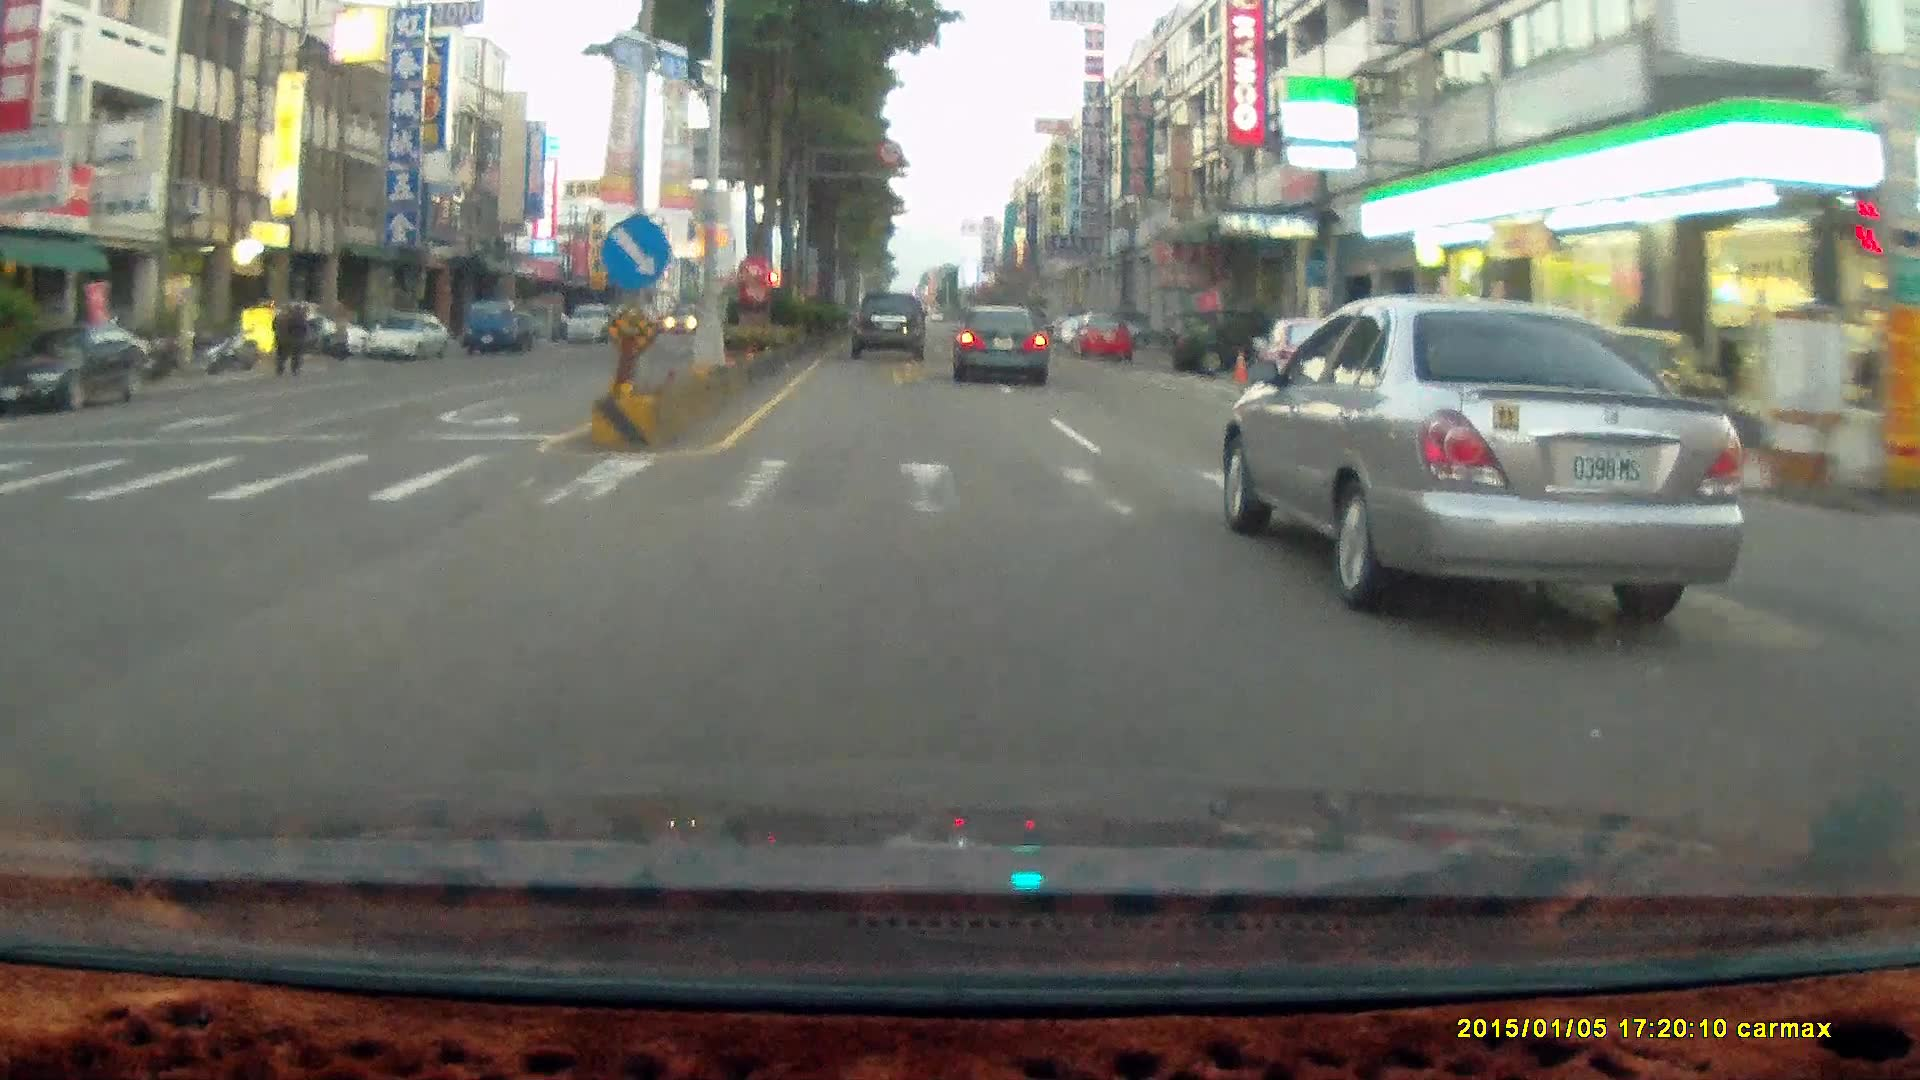pedestrian: (269, 300, 299, 377), (279, 302, 309, 379), (281, 295, 308, 368)
vehicle: (1227, 286, 1745, 624), (1564, 323, 1747, 486), (1546, 322, 1724, 464), (1, 323, 150, 414), (14, 319, 147, 408), (1264, 315, 1372, 405), (955, 302, 1052, 386), (954, 301, 1047, 384), (1165, 309, 1278, 376), (1165, 308, 1277, 375), (1251, 314, 1345, 386), (853, 294, 933, 364), (850, 290, 927, 360), (465, 295, 550, 352), (366, 311, 446, 362), (362, 313, 447, 360), (460, 301, 533, 353), (1075, 309, 1137, 362), (1070, 309, 1132, 357), (565, 301, 614, 341)
